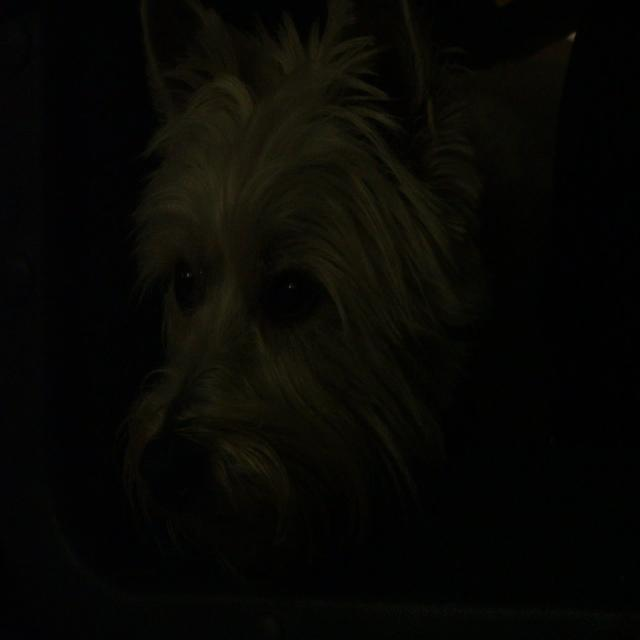dog: (88, 11, 541, 566)
